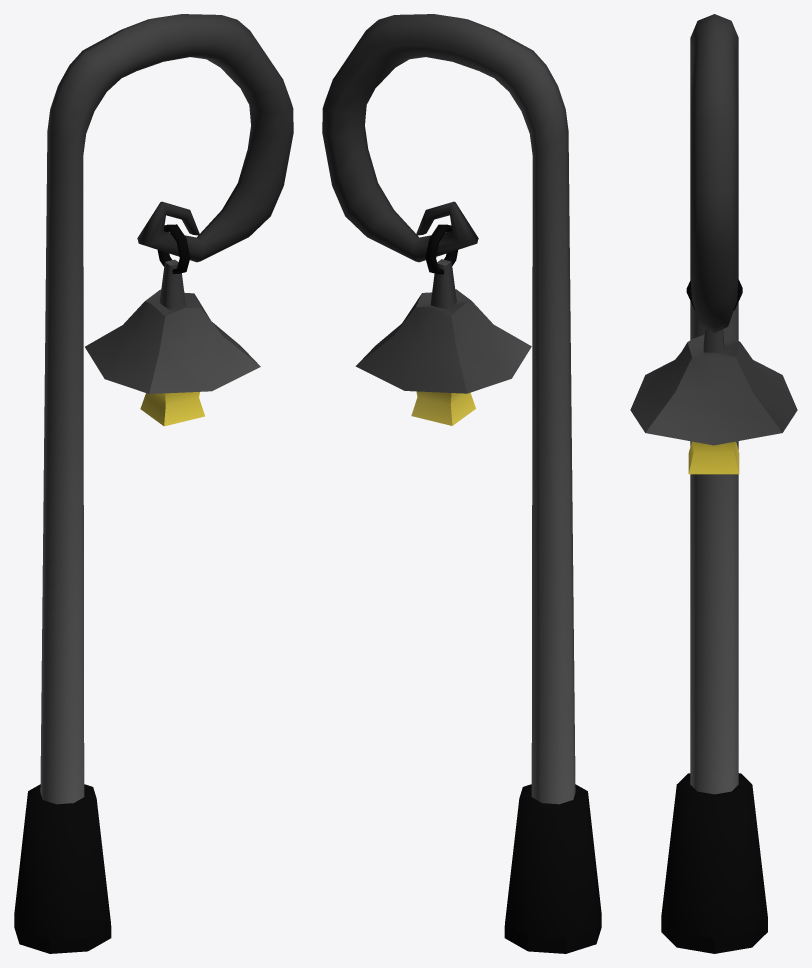
The model's file is Street Lamp_1.fbx.
3 renders of one model, left to right at view 1: azimuth 30°, elevation 25°; view 2: azimuth 150°, elevation 25°; view 3: azimuth 270°, elevation 25°, orthographic. The views are drawn at different scales.
Visible parts, largest first — view 1: Street Lamp_1; view 2: Street Lamp_1; view 3: Street Lamp_1.
Boxes of the visible parts, box(x1,y1,x2,y2) form: Street Lamp_1: box(14, 14, 293, 953); Street Lamp_1: box(322, 14, 601, 953); Street Lamp_1: box(630, 14, 797, 953).
Bounding box in the file's own units: 169 × 531 × 84.72.
1 material, 1 textured.
